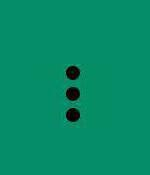ImgButton: (1, 1, 149, 174)
